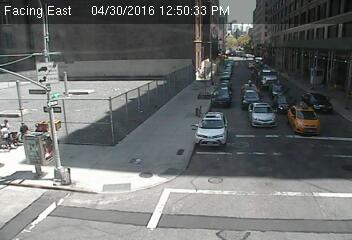neg: (283, 90, 313, 131), (190, 93, 212, 122), (240, 89, 260, 115)
pos: (13, 119, 33, 146)
